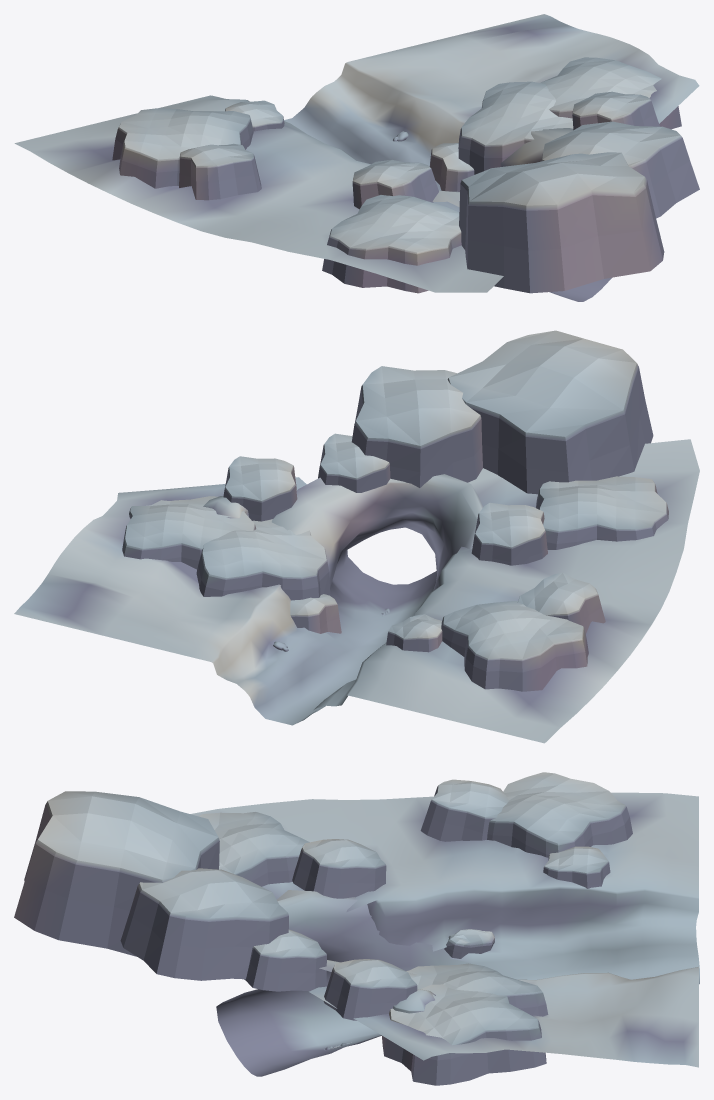
The model's file is Arctic_Luge_Tunnel_Left_15_Start_A.glb.
3 views of the same model, one above another, from view 1: azimuth 30°, elevation 25°; view 2: azimuth 150°, elevation 25°; view 3: azimuth 270°, elevation 25° (orthographic). The views are drawn at different scales.
Visible parts, largest first — view 1: Arctic_Luge_Tunnel_Left_15_Start_A, Arctic_Luge_SmallIceRock_prop (7), Arctic_Luge_MediumIceRock_prop (3), Arctic_Luge_MediumIceRock_prop, Arctic_Luge_SmallIceRock_prop (5), Arctic_Luge_MediumIceRock_prop (2), Arctic_Luge_MediumIceRock_prop (1), Arctic_Luge_SmallIceRock_prop (2), Arctic_Luge_SmallIceRock_prop (3), Arctic_Luge_SmallIceRock_prop (4), Arctic_Luge_SmallIceRock_prop, Arctic_Luge_SmallIceRock_prop (1); view 2: Arctic_Luge_Tunnel_Left_15_Start_A, Arctic_Luge_SmallIceRock_prop (7), Arctic_Luge_SmallIceRock_prop (5), Arctic_Luge_MediumIceRock_prop, Arctic_Luge_MediumIceRock_prop (2), Arctic_Luge_MediumIceRock_prop (3), Arctic_Luge_MediumIceRock_prop (1), Arctic_Luge_SmallIceRock_prop (3), Arctic_Luge_SmallIceRock_prop (4), Arctic_Luge_SmallIceRock_prop (2), Arctic_Luge_SmallIceRock_prop (6), Arctic_Luge_SmallIceRock_prop (1) (+1 smaller); view 3: Arctic_Luge_Tunnel_Left_15_Start_A, Arctic_Luge_SmallIceRock_prop (7), Arctic_Luge_SmallIceRock_prop (5), Arctic_Luge_MediumIceRock_prop (1), Arctic_Luge_MediumIceRock_prop, Arctic_Luge_MediumIceRock_prop (3), Arctic_Luge_SmallIceRock_prop (3), Arctic_Luge_SmallIceRock_prop (4), Arctic_Luge_SmallIceRock_prop (2), Arctic_Luge_SmallIceRock_prop (6), Arctic_Luge_MediumIceRock_prop (2), Arctic_Luge_SmallIceRock_prop (1) (+1 smaller).
Part boxes in pixels (bbox=[...]): Arctic_Luge_Tunnel_Left_15_Start_A: bbox=[14, 14, 699, 301]; Arctic_Luge_SmallIceRock_prop (7): bbox=[459, 152, 664, 293]; Arctic_Luge_MediumIceRock_prop (3): bbox=[322, 195, 461, 293]; Arctic_Luge_MediumIceRock_prop: bbox=[112, 108, 253, 188]; Arctic_Luge_SmallIceRock_prop (5): bbox=[542, 121, 699, 218]; Arctic_Luge_MediumIceRock_prop (2): bbox=[458, 81, 573, 174]; Arctic_Luge_MediumIceRock_prop (1): bbox=[540, 57, 681, 129]; Arctic_Luge_SmallIceRock_prop (2): bbox=[179, 143, 261, 200]; Arctic_Luge_SmallIceRock_prop (3): bbox=[352, 160, 438, 209]; Arctic_Luge_SmallIceRock_prop (4): bbox=[572, 91, 659, 130]; Arctic_Luge_SmallIceRock_prop: bbox=[429, 143, 474, 191]; Arctic_Luge_SmallIceRock_prop (1): bbox=[225, 100, 284, 131]; Arctic_Luge_Tunnel_Left_15_Start_A: bbox=[14, 439, 699, 743]; Arctic_Luge_SmallIceRock_prop (7): bbox=[447, 330, 653, 494]; Arctic_Luge_SmallIceRock_prop (5): bbox=[351, 366, 482, 487]; Arctic_Luge_MediumIceRock_prop: bbox=[441, 601, 588, 691]; Arctic_Luge_MediumIceRock_prop (2): bbox=[196, 519, 330, 600]; Arctic_Luge_MediumIceRock_prop (3): bbox=[536, 476, 668, 549]; Arctic_Luge_MediumIceRock_prop (1): bbox=[122, 496, 256, 569]; Arctic_Luge_SmallIceRock_prop (3): bbox=[471, 502, 547, 565]; Arctic_Luge_SmallIceRock_prop (4): bbox=[223, 456, 297, 521]; Arctic_Luge_SmallIceRock_prop (2): bbox=[517, 572, 605, 634]; Arctic_Luge_SmallIceRock_prop (6): bbox=[318, 433, 390, 492]; Arctic_Luge_SmallIceRock_prop (1): bbox=[386, 614, 442, 652]; Arctic_Luge_Tunnel_Left_15_Start_A: bbox=[190, 792, 699, 1076]; Arctic_Luge_SmallIceRock_prop (7): bbox=[14, 791, 219, 956]; Arctic_Luge_SmallIceRock_prop (5): bbox=[120, 868, 288, 980]; Arctic_Luge_MediumIceRock_prop (1): bbox=[382, 984, 546, 1085]; Arctic_Luge_MediumIceRock_prop: bbox=[487, 772, 632, 857]; Arctic_Luge_MediumIceRock_prop (3): bbox=[198, 812, 309, 886]; Arctic_Luge_SmallIceRock_prop (3): bbox=[292, 839, 386, 898]; Arctic_Luge_SmallIceRock_prop (4): bbox=[323, 959, 417, 1020]; Arctic_Luge_SmallIceRock_prop (2): bbox=[420, 779, 508, 841]; Arctic_Luge_SmallIceRock_prop (6): bbox=[244, 929, 326, 991]; Arctic_Luge_MediumIceRock_prop (2): bbox=[406, 963, 548, 1016]; Arctic_Luge_SmallIceRock_prop (1): bbox=[543, 846, 610, 888].
Bounding box in the file's own units: 27.16 × 9.53 × 27.78.
